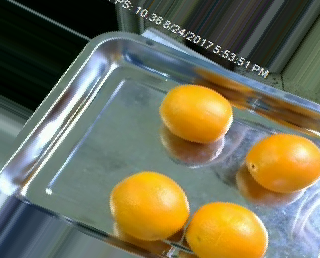Orange: (110, 171, 191, 241), (185, 202, 270, 258), (159, 83, 233, 144), (246, 134, 320, 192)
